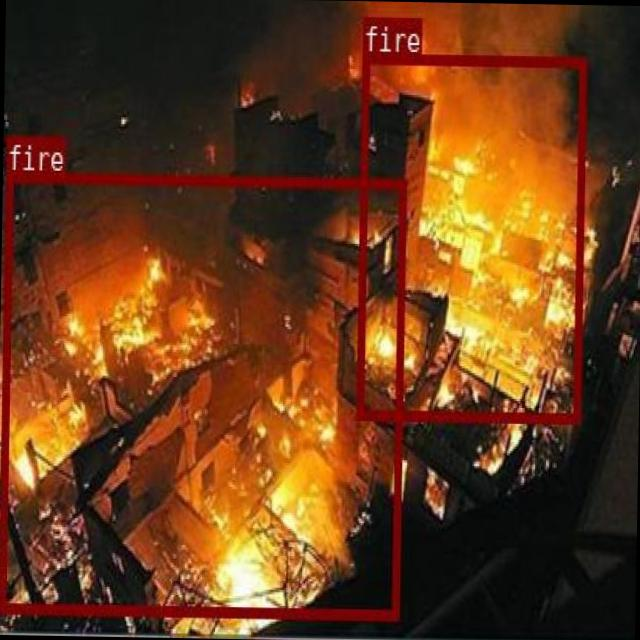fire: (0, 170, 403, 618), (356, 52, 586, 420)
